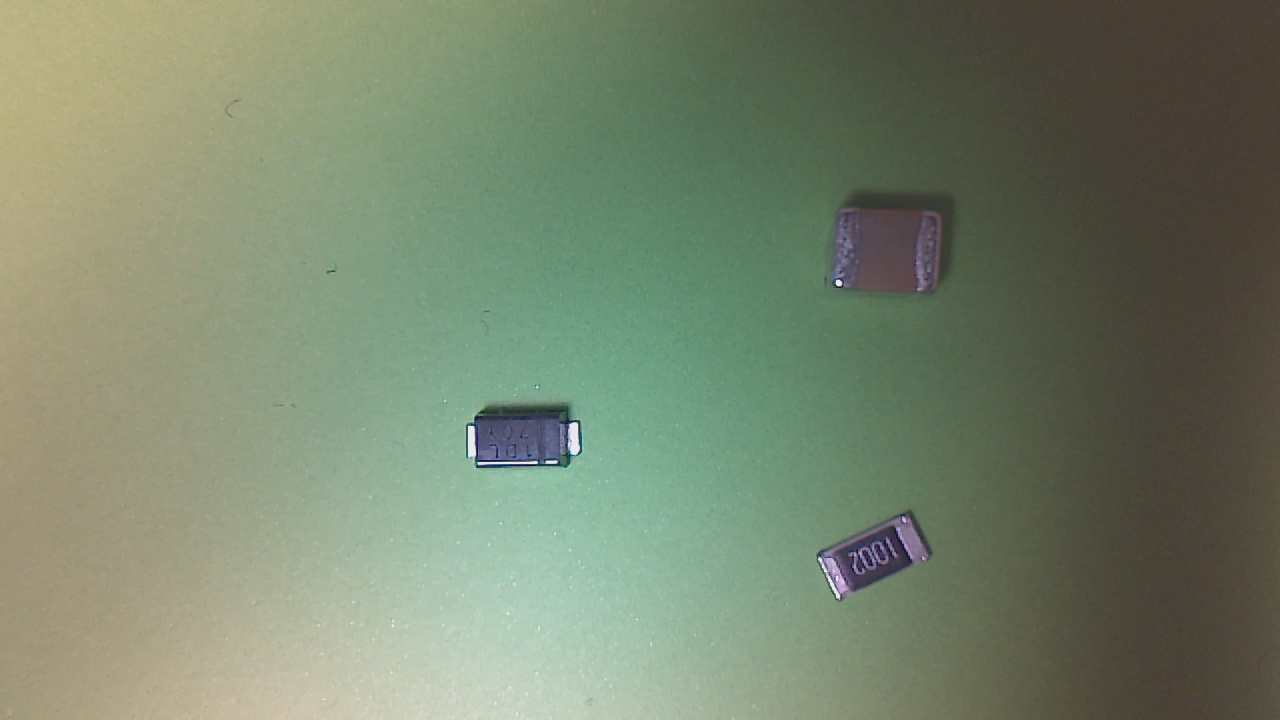Condensator: (834, 209, 952, 303)
Diode: (470, 412, 590, 476)
Resistor: (814, 510, 939, 609)
